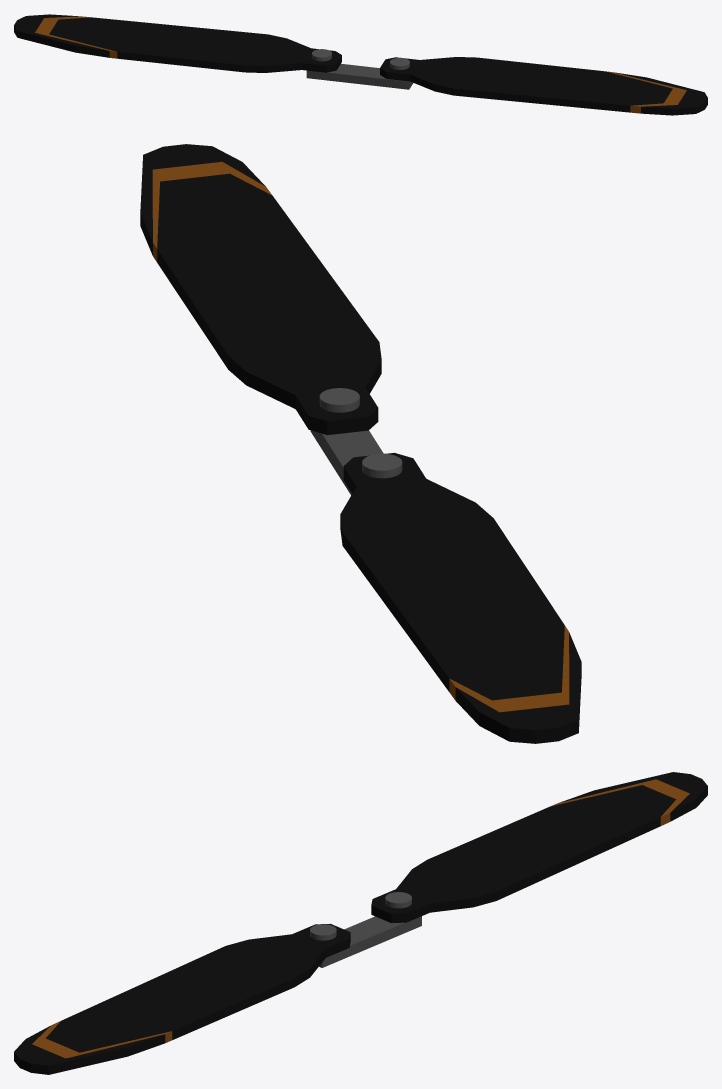
Rendered from rotor_cw.obj.
The picture shows the model from 3 angles, top to bottom: view 1: azimuth 30°, elevation 25°; view 2: azimuth 150°, elevation 25°; view 3: azimuth 270°, elevation 25°; orthographic projection. The views are drawn at different scales.
Parts seen in each view (by area): view 1: Cube.005_Cube.006, Cube.006_Cube.007, Cube.007_Cube.008; view 2: Cube.005_Cube.006, Cube.006_Cube.007, Cube.007_Cube.008; view 3: Cube.006_Cube.007, Cube.005_Cube.006, Cube.007_Cube.008.
Part boxes in pixels (x1,y1,x2,y2): Cube.005_Cube.006: (14, 14, 341, 72); Cube.006_Cube.007: (380, 57, 707, 115); Cube.007_Cube.008: (306, 63, 413, 89); Cube.005_Cube.006: (340, 452, 581, 743); Cube.006_Cube.007: (140, 144, 381, 435); Cube.007_Cube.008: (310, 430, 383, 495); Cube.006_Cube.007: (14, 923, 350, 1074); Cube.005_Cube.006: (371, 772, 707, 923); Cube.007_Cube.008: (319, 916, 421, 967).
Size of the model in its own units: 0.2492 by 0.0113 by 0.2488.
